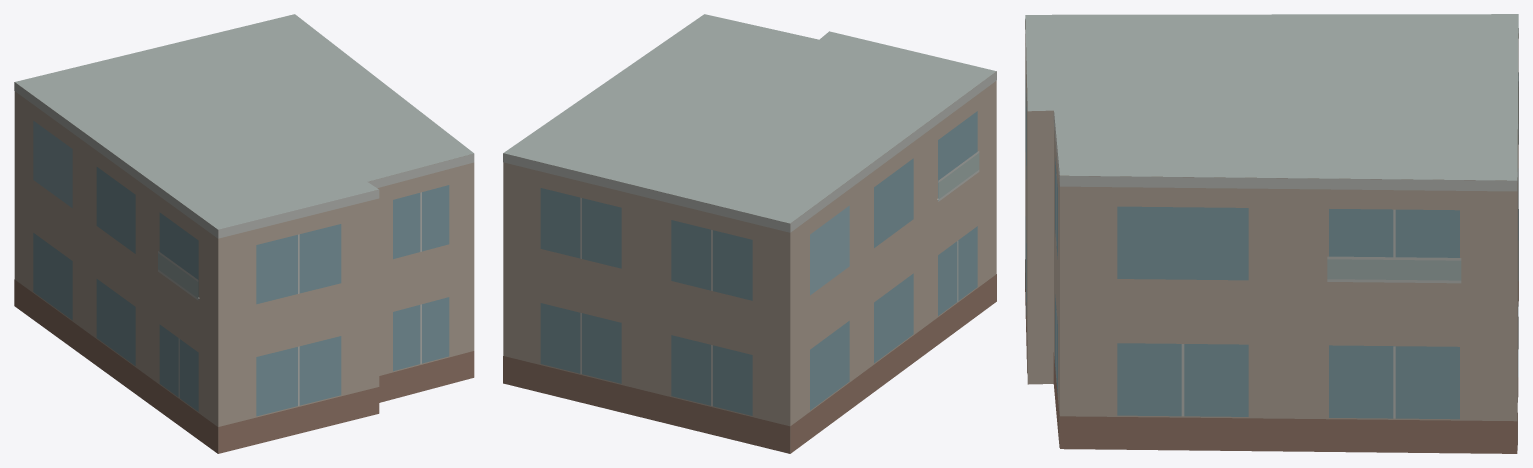
The model's file is survey-upis-33009540.glb.
3 renders of one model, left to right at view 1: azimuth 30°, elevation 25°; view 2: azimuth 150°, elevation 25°; view 3: azimuth 270°, elevation 25°, orthographic. The views are drawn at different scales.
Visible parts, largest first — view 1: survey-upis-33009540.tmp; view 2: survey-upis-33009540.tmp; view 3: survey-upis-33009540.tmp.
Boxes of the visible parts, x1=… form: survey-upis-33009540.tmp: x1=14, y1=14, x2=474, y2=453; survey-upis-33009540.tmp: x1=503, y1=14, x2=996, y2=453; survey-upis-33009540.tmp: x1=1025, y1=14, x2=1518, y2=453.
Size of the model in its own units: 8 by 6.1 by 9.99.
